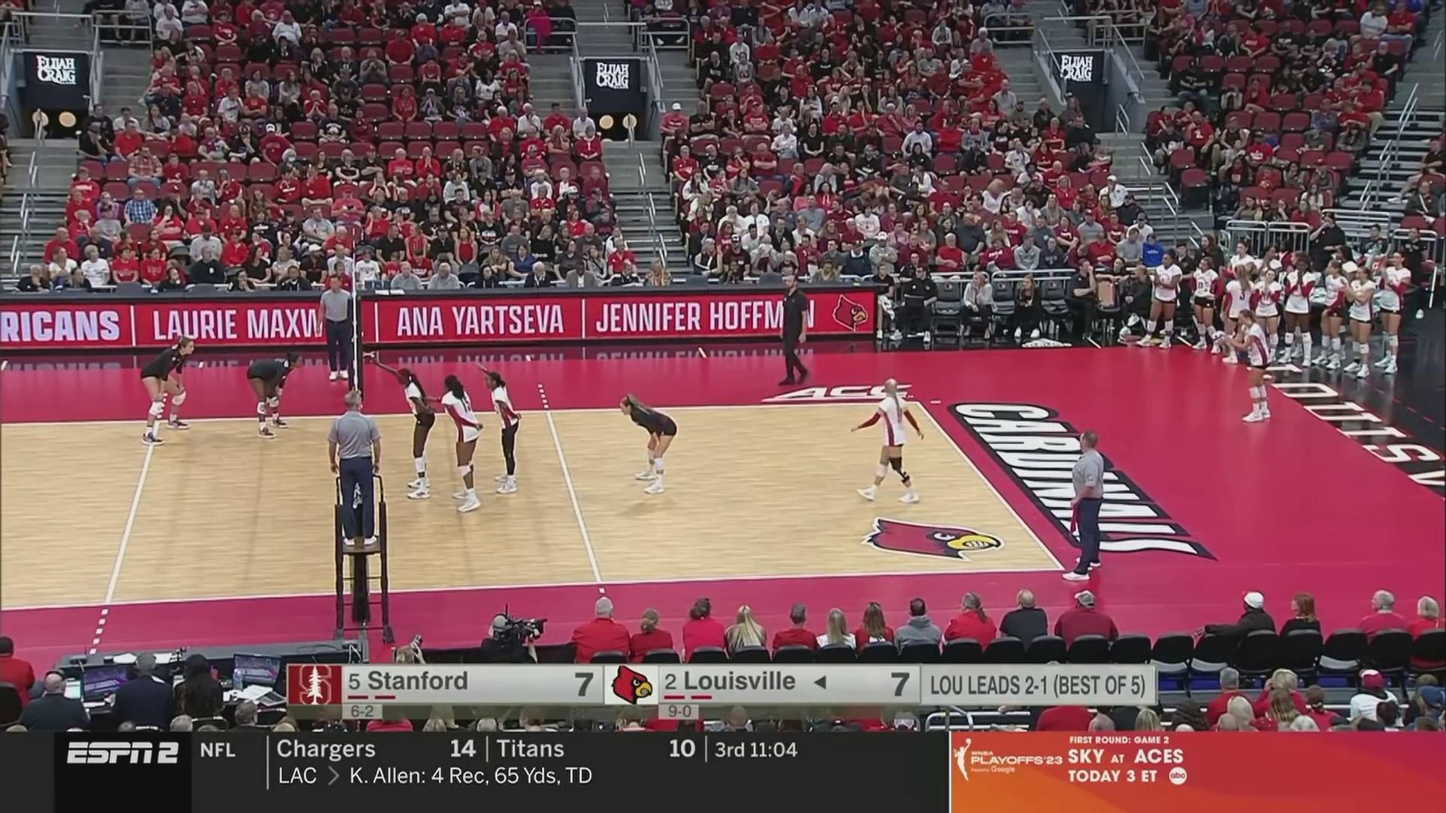player: (850, 386, 925, 504), (386, 357, 436, 502), (440, 369, 485, 516), (1219, 309, 1273, 427), (476, 366, 524, 496), (619, 397, 680, 495), (140, 337, 200, 435), (243, 350, 306, 437)
refree: (325, 399, 385, 546), (1056, 428, 1109, 585), (318, 274, 363, 384)
